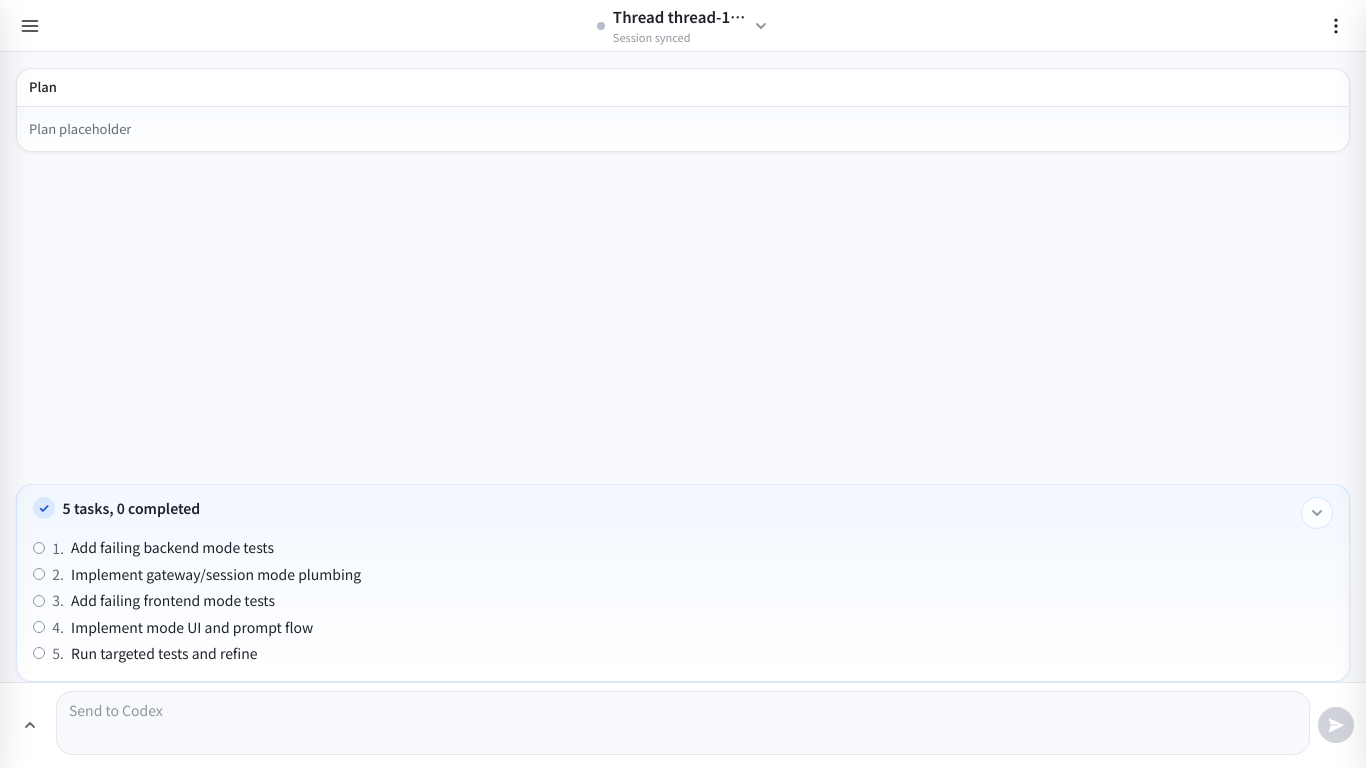
Test case: ChatPageLayout composer › collapses and re-expands the todo list panel
Click the button named "Collapse todo list" at (1317, 513), box [1301,497,1333,529]
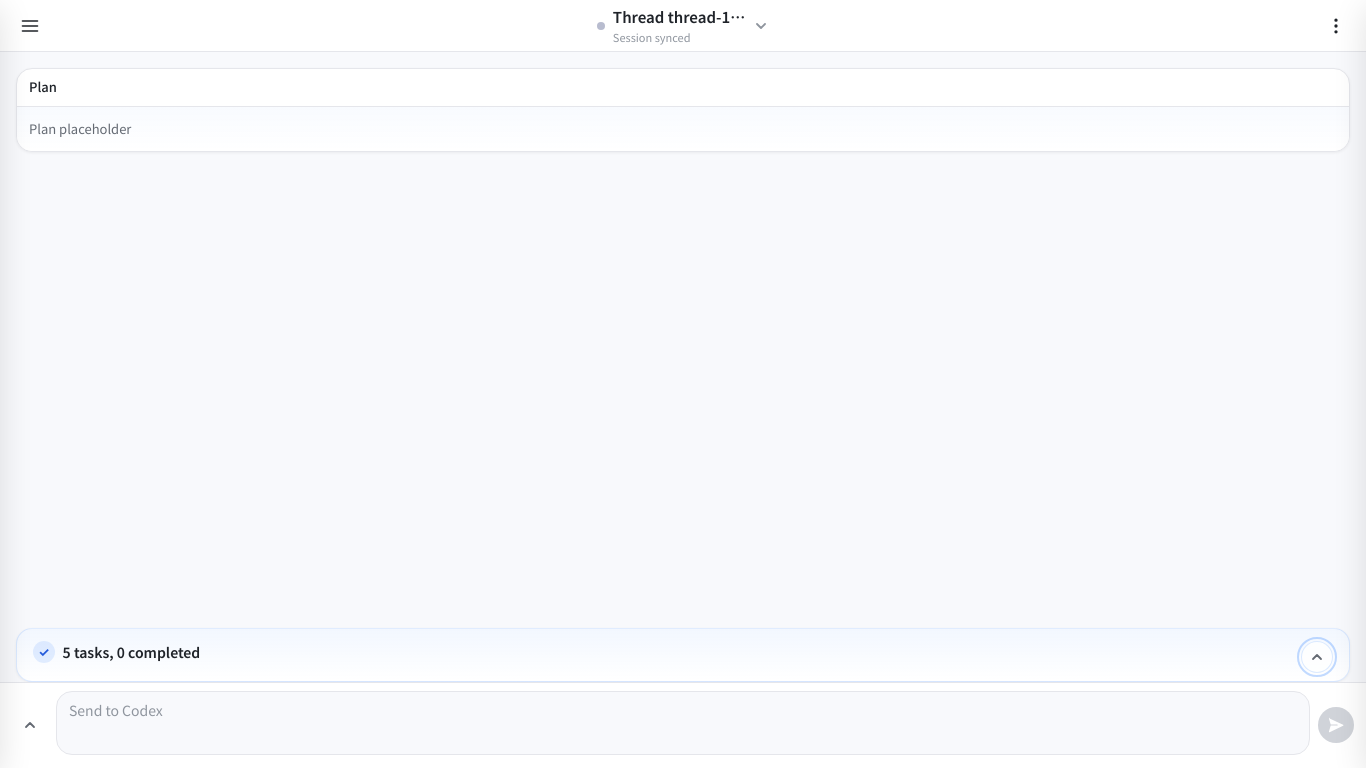
Now the text "Add failing backend mode tests" is gone
Click the button named "Expand todo list" at (1317, 657), box [1301,641,1333,673]
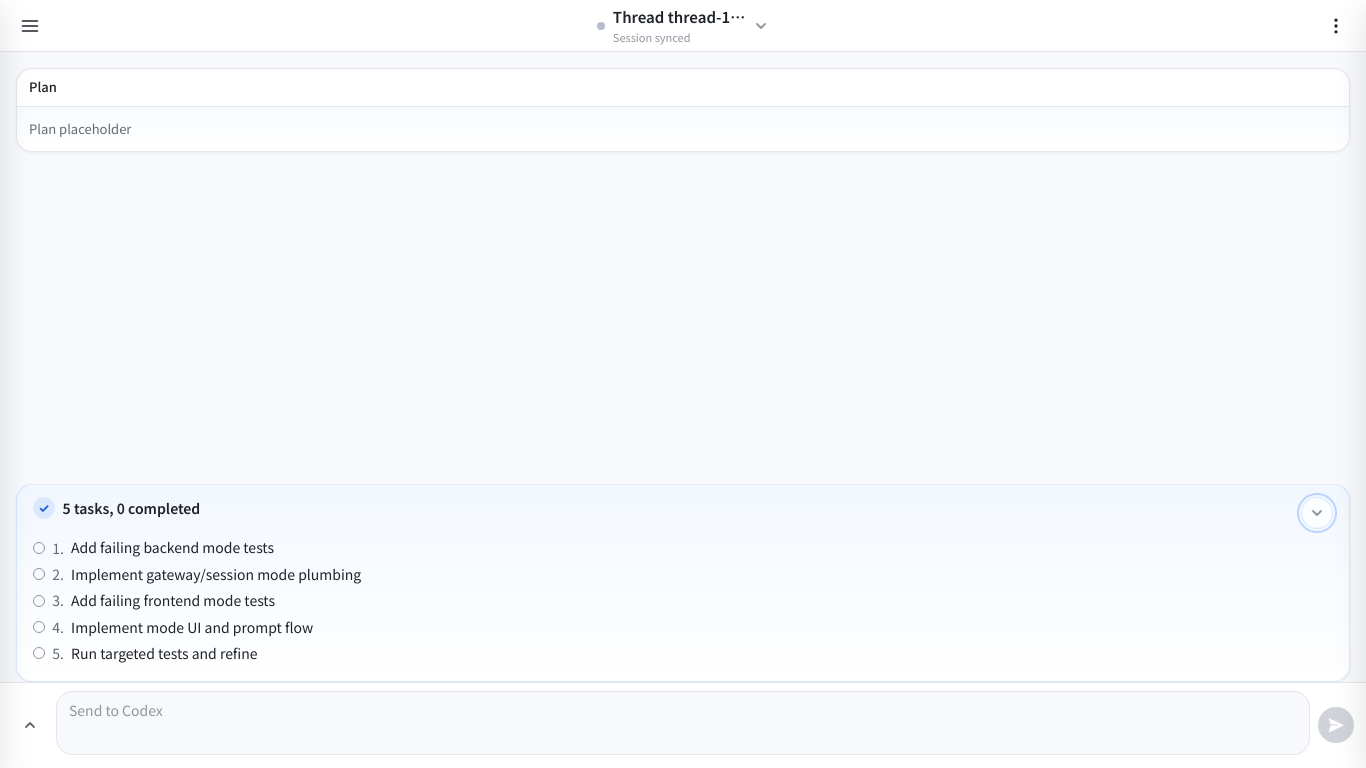
Now the text "Add failing backend mode tests" is shown, box [71,537,274,558]
